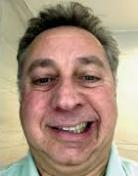strokeEyeWeak: (30, 62, 107, 91)
strokeMouthMid: (42, 118, 103, 143)
